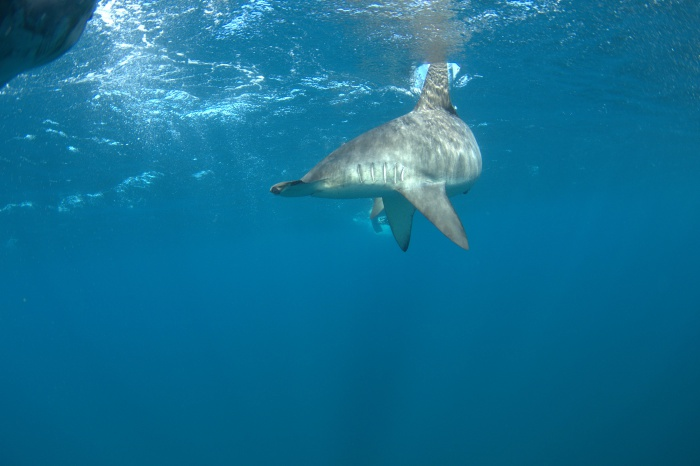Hammer: (264, 45, 507, 270)
